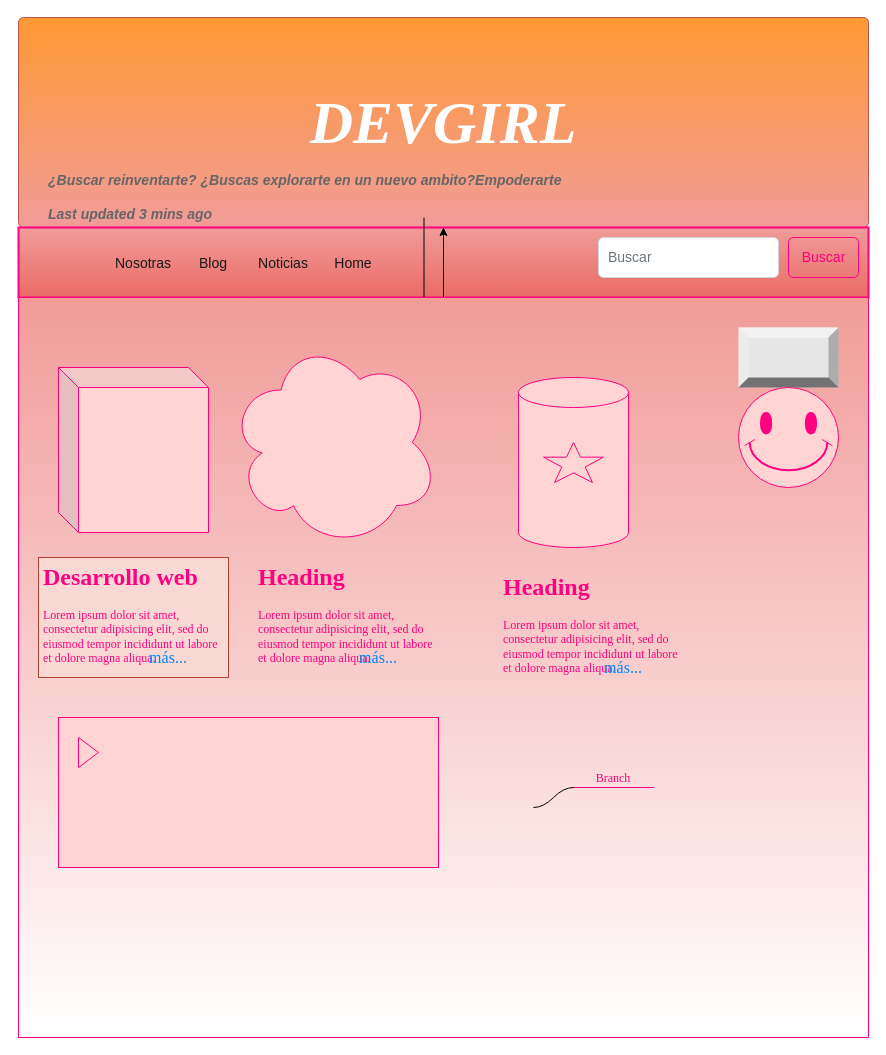
Image size: 886x1055. Some labels were removed from this diagram. Here are the shapes that lost their labels. From the top down, the box of each, then its label:
(738, 327, 838, 387): SUSCRIBIRSE
(58, 716, 438, 868): Label
